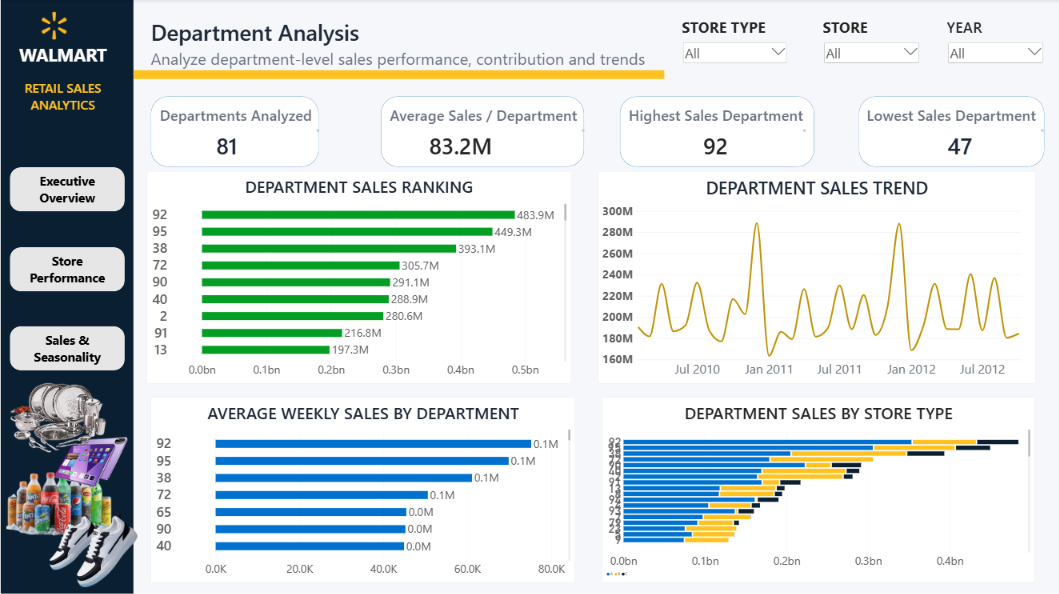

The dashboard page shown, as its layout file describes it:
{"tool":"powerbi","page":{"name":"Department Analysis","canvas":[3840,2160],"ordinal":2},"visuals":[{"type":"shape","box":[0,-16,480,2176],"z":0},{"type":"actionButton","box":[32,1184,416,160],"z":2000},{"type":"image","box":[0,1696,430.7,260.6],"z":4000},{"type":"image","box":[192,1440,271.4,441.6],"z":5000},{"type":"image","box":[160,1824,354.7,304],"z":6000},{"type":"image","box":[32,1376,351.1,289.5],"z":7000},{"type":"actionButton","box":[32,608,416,160],"z":8000},{"type":"actionButton","box":[32,896,416,160],"z":9000},{"type":"image","box":[64,0,256,192],"z":10000},{"type":"textbox","title":"WALMART","box":[64,160,320,96],"z":11000},{"type":"textbox","title":"RETAIL SALES ANALYTICS","box":[32,288,384,128],"z":12000},{"type":"textbox","title":"Department Analysis","box":[544,64,1792,224],"z":13000},{"type":"shape","box":[480,256,1920,32],"z":14000},{"type":"shape","box":[544,352,608,256],"z":15000},{"type":"shape","box":[1376,352,736,256],"z":16000},{"type":"shape","box":[2240,352,704,256],"z":17000},{"type":"shape","box":[3104,352,672,256],"z":18000},{"type":"textbox","title":"Departments Analyzed","box":[576,384,576,96],"z":19000},{"type":"textbox","title":"Average Sales / Department","box":[1408,384,704,96],"z":20000},{"type":"textbox","title":"Highest Sales Department","box":[2272,384,640,96],"z":21000},{"type":"textbox","title":"Lowest Sales Department","box":[3136,384,640,96],"z":22000},{"type":"cardVisual","fields":{"Data":["Walmart_Sales.Total Departments"]},"box":[704,480,224,96],"z":23000},{"type":"cardVisual","fields":{"Data":["Walmart_Sales.Average Sales per Department"]},"box":[1536,480,416,96],"z":24000},{"type":"cardVisual","fields":{"Data":["Walmart_Sales.Highest Sales Department"]},"box":[2528,480,128,96],"z":25000},{"type":"cardVisual","fields":{"Data":["Walmart_Sales.Lowest Sales Department"]},"box":[3392,448,160,160],"z":26000},{"type":"slicer","title":"STORE TYPE","fields":{"Values":["Walmart_Sales.type"]},"box":[2464,64,384,192],"z":27000},{"type":"slicer","title":"STORE","fields":{"Values":["Walmart_Sales.dept"]},"box":[2976,64,352,192],"z":28000},{"type":"slicer","title":"YEAR","fields":{"Values":["DateTable.Year"]},"box":[3424,64,352,192],"z":29000},{"type":"clusteredBarChart","title":"DEPARTMENT SALES RANKING","fields":{"Y":["Walmart_Sales.Department Total Sales"],"Category":["Walmart_Sales.Department"]},"box":[528,624,1536,768],"z":30000},{"type":"lineChart","title":"DEPARTMENT SALES TREND","fields":{"Category":["DateTable.Year Month Date.Variation.Date Hierarchy.Year","DateTable.Year Month Date.Variation.Date Hierarchy.Month"],"Y":["Walmart_Sales.Department Total Sales"]},"box":[2160,624,1584,768],"z":31000},{"type":"clusteredBarChart","title":"AVERAGE WEEKLY SALES BY DEPARTMENT","fields":{"Category":["Walmart_Sales.Department"],"Y":["Walmart_Sales.Average Weekly Sales by Department"]},"box":[544,1440,1536,672],"z":32000},{"type":"barChart","title":"DEPARTMENT SALES BY STORE TYPE","fields":{"Category":["Walmart_Sales.Department"],"Y":["Walmart_Sales.Department Total Sales"],"Series":["Walmart_Sales.type"]},"box":[2176,1440,1568,672],"z":33000}]}

Visuals, with their boxes in screenshot pixels (x1, y1, x2, y2), scaled from the page's 3840x2160 canvas onto the 1059x594 screenshot:
shape: 0:0:132:593
actionButton: 9:326:124:370
image: 0:466:119:538
image: 53:396:128:517
image: 44:502:142:585
image: 9:378:106:458
actionButton: 9:167:124:211
actionButton: 9:246:124:290
image: 18:0:88:53
"WALMART" textbox: 18:44:106:70
"RETAIL SALES ANALYTICS" textbox: 9:79:115:114
"Department Analysis" textbox: 150:18:644:79
shape: 132:70:662:79
shape: 150:97:318:167
shape: 379:97:582:167
shape: 618:97:812:167
shape: 856:97:1041:167
"Departments Analyzed" textbox: 159:106:318:132
"Average Sales / Department" textbox: 388:106:582:132
"Highest Sales Department" textbox: 627:106:803:132
"Lowest Sales Department" textbox: 865:106:1041:132
cardVisual - Walmart_Sales.Total Departments: 194:132:256:158
cardVisual - Walmart_Sales.Average Sales per Department: 424:132:538:158
cardVisual - Walmart_Sales.Highest Sales Department: 697:132:732:158
cardVisual - Walmart_Sales.Lowest Sales Department: 935:123:980:167
"STORE TYPE" slicer: 680:18:785:70
"STORE" slicer: 821:18:918:70
"YEAR" slicer: 944:18:1041:70
"DEPARTMENT SALES RANKING" clusteredBarChart: 146:172:569:383
"DEPARTMENT SALES TREND" lineChart: 596:172:1033:383
"AVERAGE WEEKLY SALES BY DEPARTMENT" clusteredBarChart: 150:396:574:581
"DEPARTMENT SALES BY STORE TYPE" barChart: 600:396:1033:581
